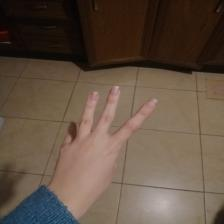five: (57, 81, 162, 200)
